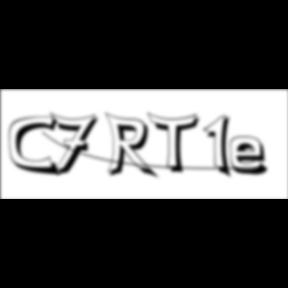1: (202, 114, 237, 182)
7: (50, 111, 104, 179)
C: (9, 115, 64, 178)
R: (105, 112, 162, 182)
T: (148, 112, 206, 176)
e: (230, 135, 276, 178)
